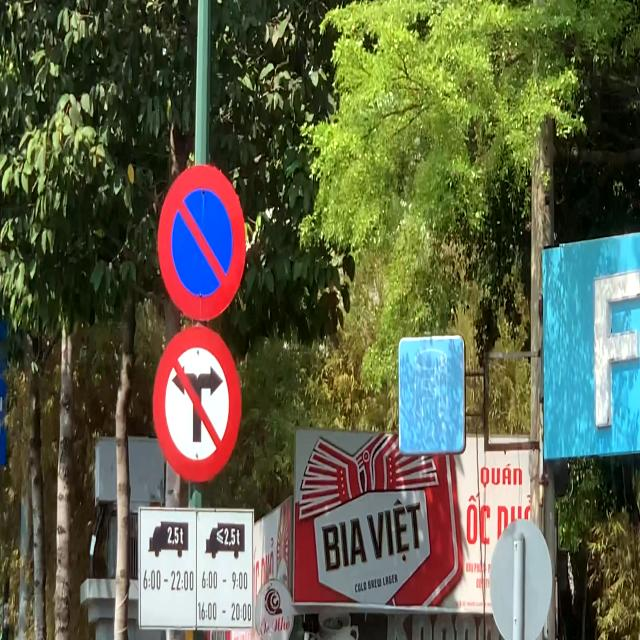P.131a: (155, 151, 248, 326)
P.137: (155, 318, 237, 480)
